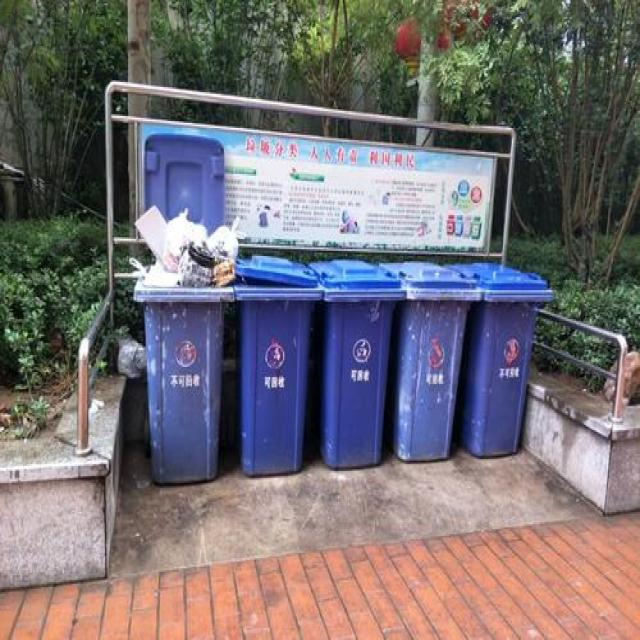garbage_bin: (233, 252, 324, 472), (383, 259, 481, 461), (451, 259, 552, 454), (310, 256, 403, 466)
overflow: (130, 206, 242, 482)
